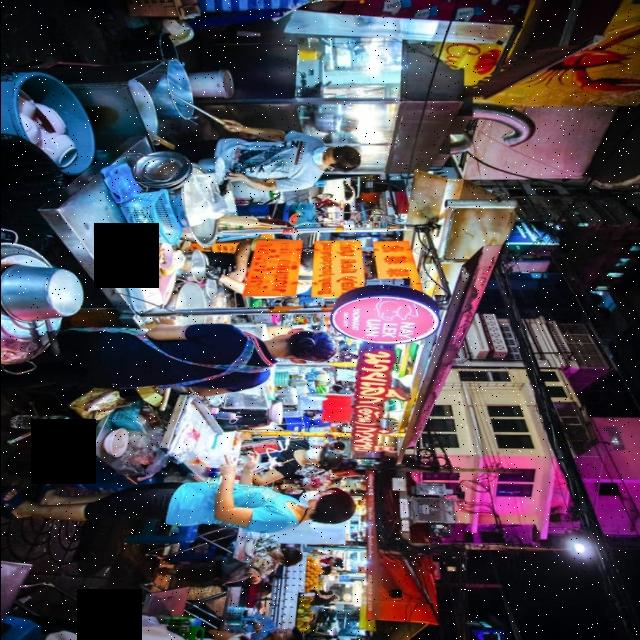food-booth: (35, 151, 513, 457)
